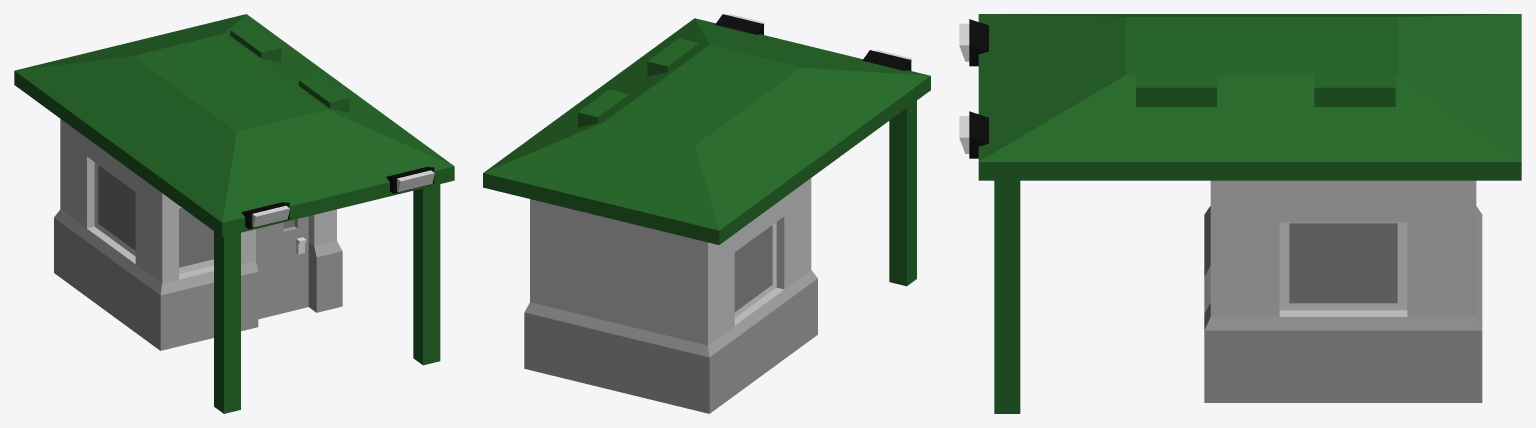
Rendered from GateHouse.fbx.
3 views of the same model, side by side, from view 1: azimuth 30°, elevation 25°; view 2: azimuth 150°, elevation 25°; view 3: azimuth 270°, elevation 25° (orthographic). The views are drawn at different scales.
Visible parts, largest first — view 1: GateHouse; view 2: GateHouse; view 3: GateHouse.
Boxes of the visible parts, left/top/right/bottom form: GateHouse: left=14, top=14, right=454, bottom=413; GateHouse: left=483, top=14, right=930, bottom=413; GateHouse: left=959, top=14, right=1521, bottom=413.
Bounding box in the file's own units: 1156 × 1106 × 1858.
